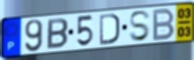5: (76, 13, 95, 48)
9: (24, 18, 44, 53)
B: (151, 7, 176, 43), (46, 17, 70, 51)
D: (99, 12, 121, 46)
S: (128, 10, 152, 43)
